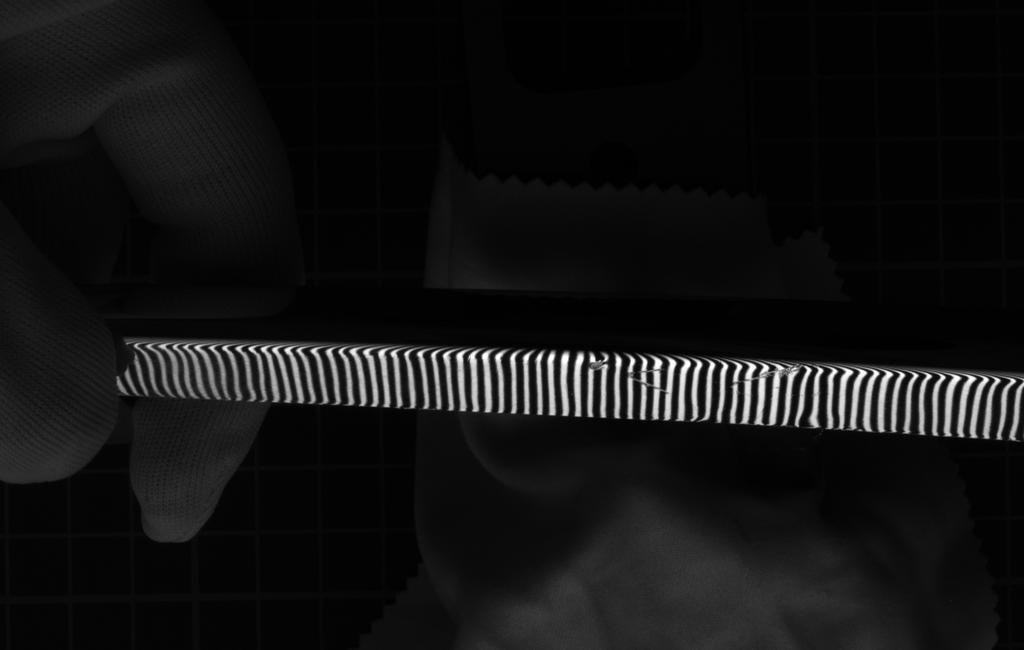Pierced: (578, 352, 620, 380)
Scratch: (707, 355, 816, 396), (616, 360, 685, 405)
